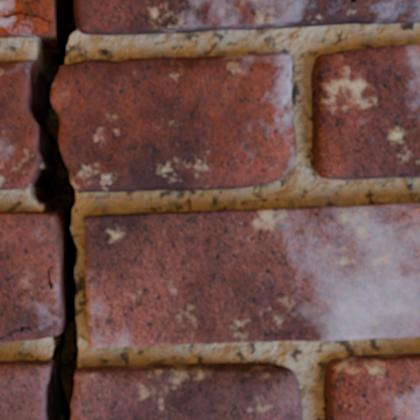brick: (84, 202, 419, 346), (311, 44, 419, 178), (74, 0, 419, 34), (0, 212, 63, 341), (324, 354, 419, 419), (0, 0, 54, 37)
broken_brick: (51, 51, 297, 193), (72, 362, 303, 419), (0, 59, 36, 190), (0, 359, 49, 419)
crack: (2, 0, 78, 419), (0, 325, 38, 340), (350, 0, 357, 3)
